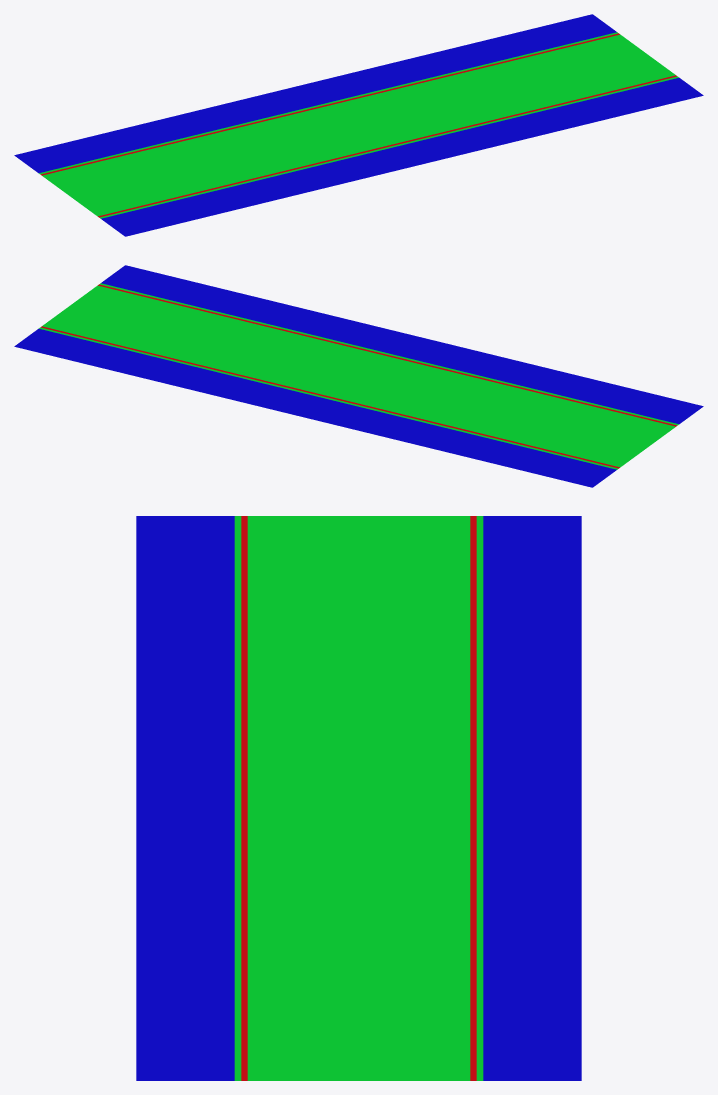
The model's file is thin_straight.fbx.
The picture shows the model from 3 angles, top to bottom: view 1: azimuth 30°, elevation 25°; view 2: azimuth 150°, elevation 25°; view 3: azimuth 270°, elevation 25°; orthographic projection. The views are drawn at different scales.
Visible parts, largest first — view 1: Plane.077; view 2: Plane.077; view 3: Plane.077.
Boxes of the visible parts, bbox=[...] form: Plane.077: bbox=[14, 14, 703, 236]; Plane.077: bbox=[14, 265, 703, 487]; Plane.077: bbox=[136, 516, 581, 1080].
Bounding box in the file's own units: 1200 × 6.52e-05 × 400.
